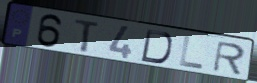4: (107, 24, 134, 61)
6: (35, 13, 64, 49)
D: (139, 28, 174, 65)
L: (178, 35, 206, 71)
R: (211, 40, 247, 76)
T: (73, 18, 102, 54)
